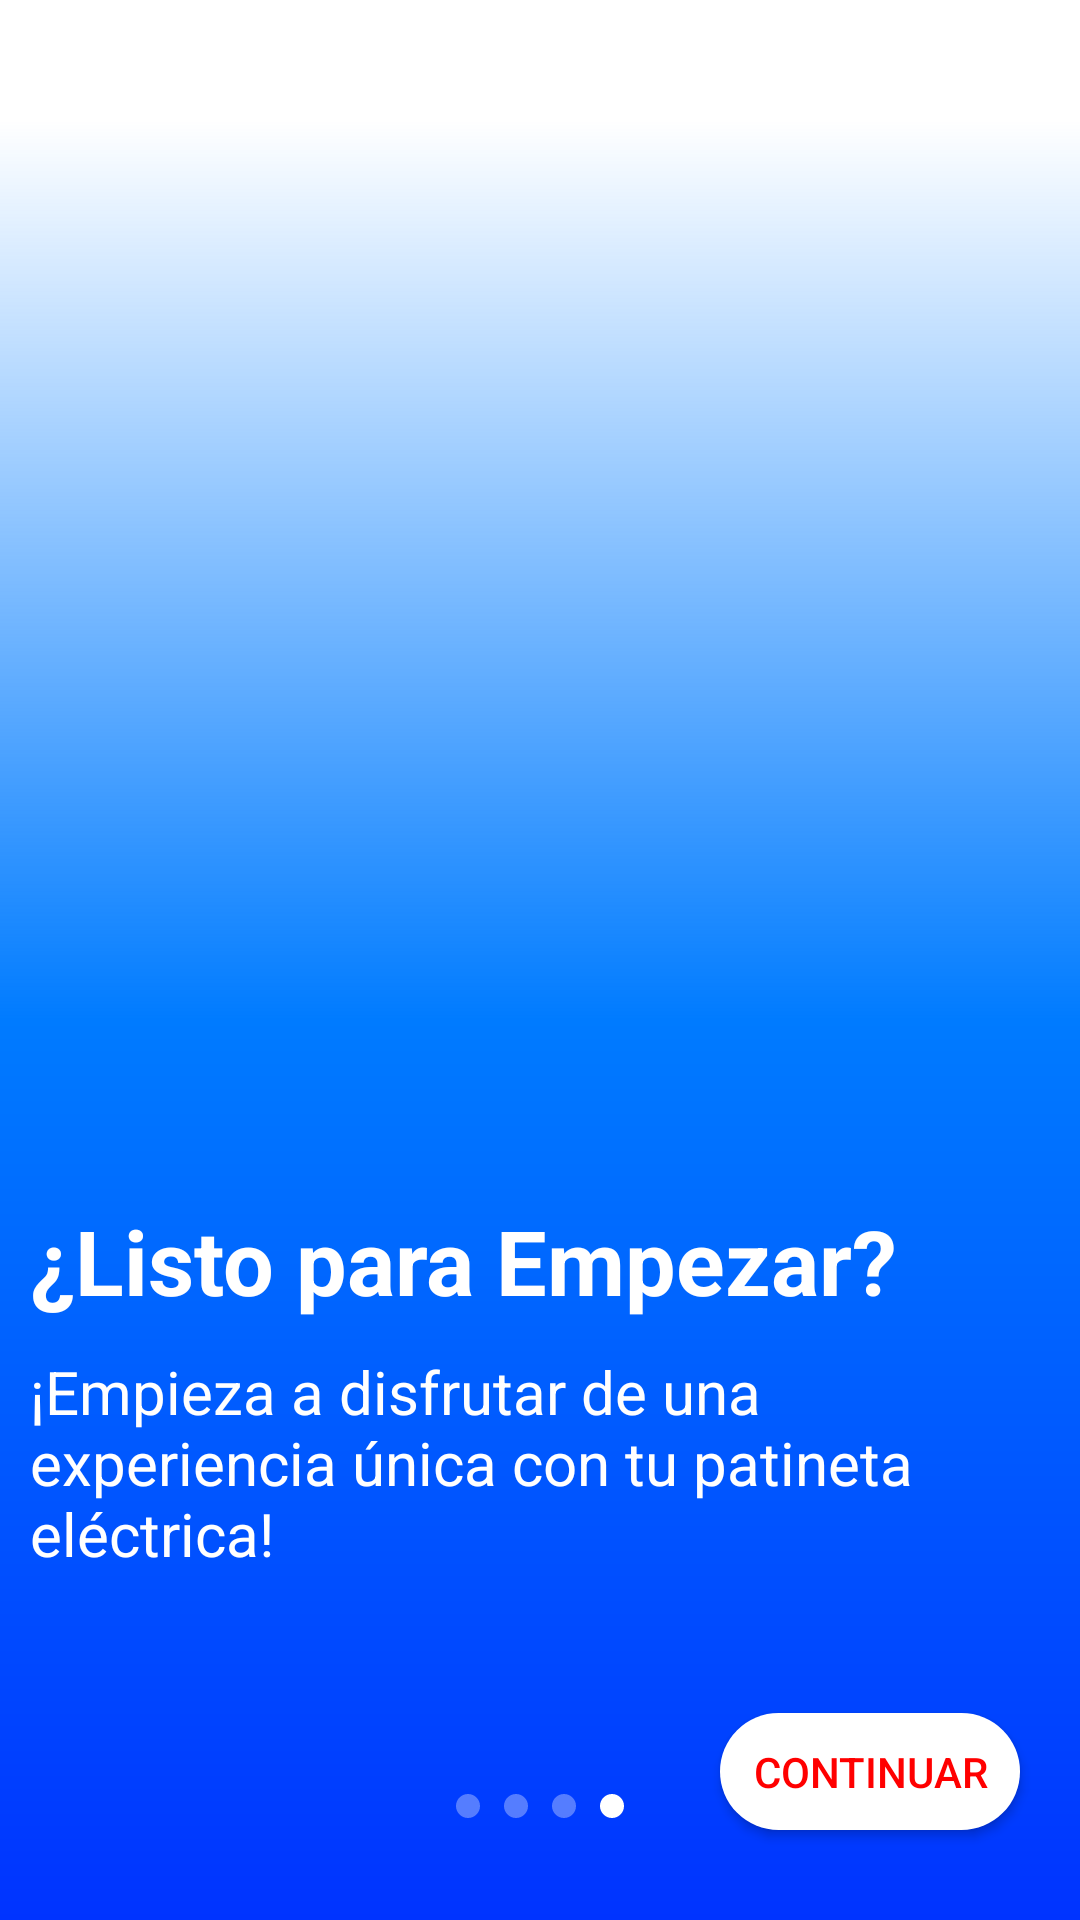

Icon click points for this 1080×1920 phone screenshot, format (x=x, y=y):
indicator: (x=468, y=1806), (x=516, y=1806), (x=564, y=1806), (x=612, y=1806)
